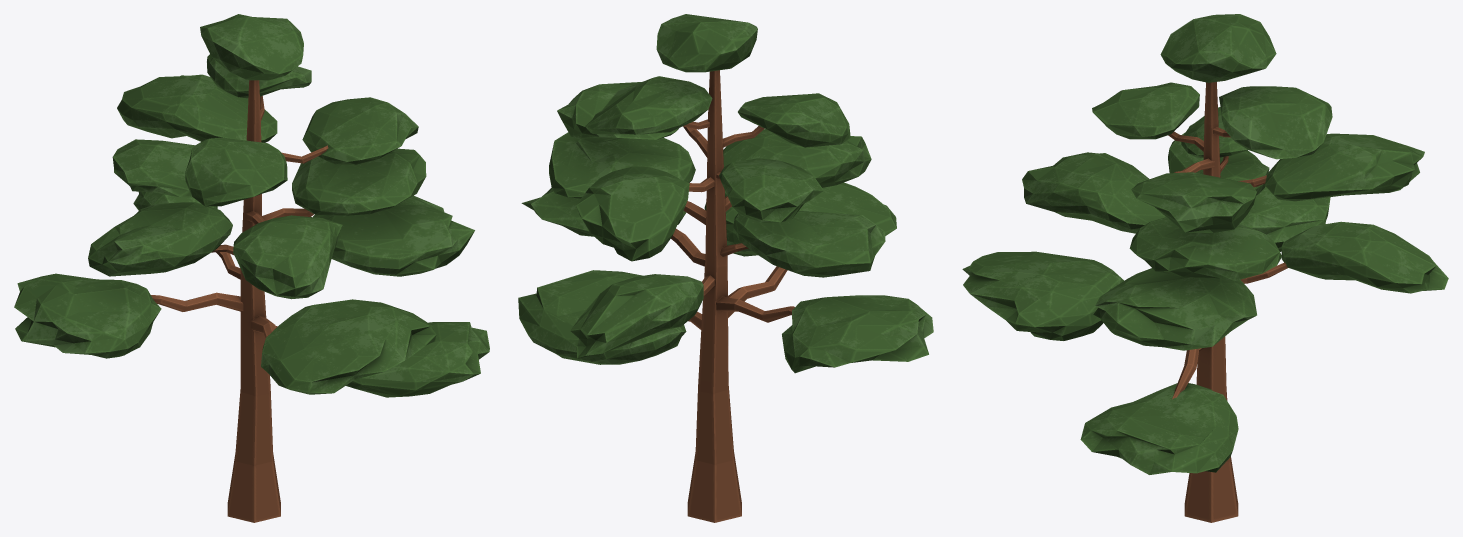
File: AlkhairPark.dae
The picture shows the model from 3 angles, left to right: view 1: azimuth 30°, elevation 25°; view 2: azimuth 150°, elevation 25°; view 3: azimuth 270°, elevation 25°; orthographic projection.
Visible parts, largest first — view 1: model; view 2: model; view 3: model.
Boxes of the visible parts, box(x1,y1,x2,y2) form: model: box(14, 14, 489, 522); model: box(518, 14, 933, 522); model: box(962, 14, 1448, 522).
Bounding box in the file's own units: 21.03 × 22.43 × 20.35.
1 material, 1 textured.
